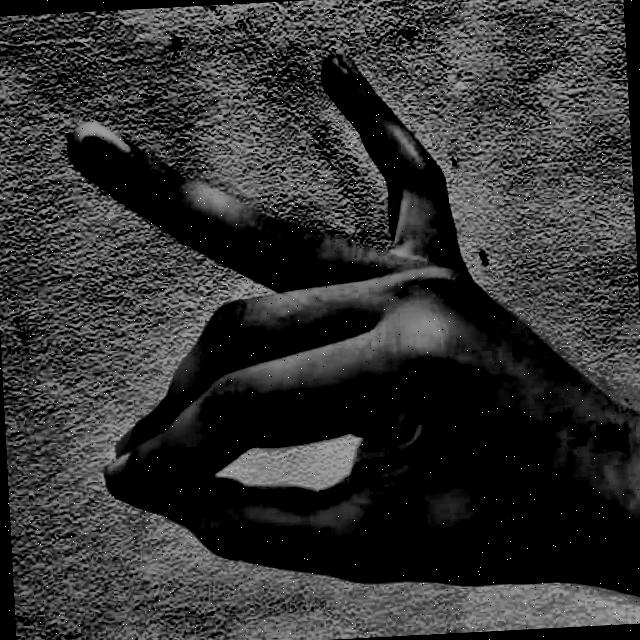Na: (36, 11, 578, 630)
